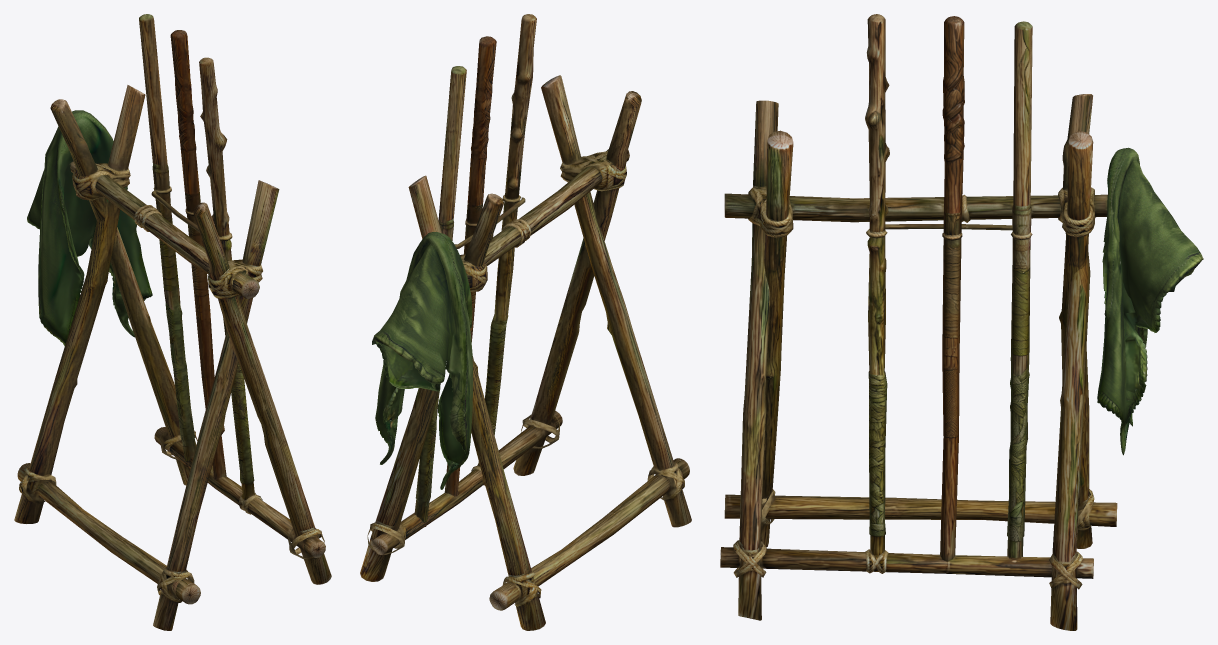
File: SM_Env_SherwoodQuarterstaffRack.fbx
The picture shows the model from 3 angles, left to right: view 1: azimuth 30°, elevation 25°; view 2: azimuth 150°, elevation 25°; view 3: azimuth 270°, elevation 25°; orthographic projection. The views are drawn at different scales.
Visible parts, largest first — view 1: SM_Env_SherwoodQuarterstaffRack; view 2: SM_Env_SherwoodQuarterstaffRack; view 3: SM_Env_SherwoodQuarterstaffRack.
Boxes of the visible parts, x1,y1,x2,y2 form: SM_Env_SherwoodQuarterstaffRack: (14,14,331,630); SM_Env_SherwoodQuarterstaffRack: (360,14,691,630); SM_Env_SherwoodQuarterstaffRack: (720,14,1203,630).
Size of the model in its own units: 22.72 by 44.88 by 60.
Materials: 1 (1 with a texture image).
